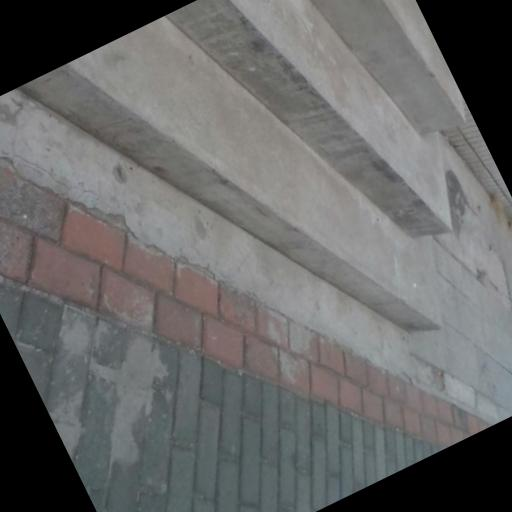stairs: (19, 0, 462, 329)
